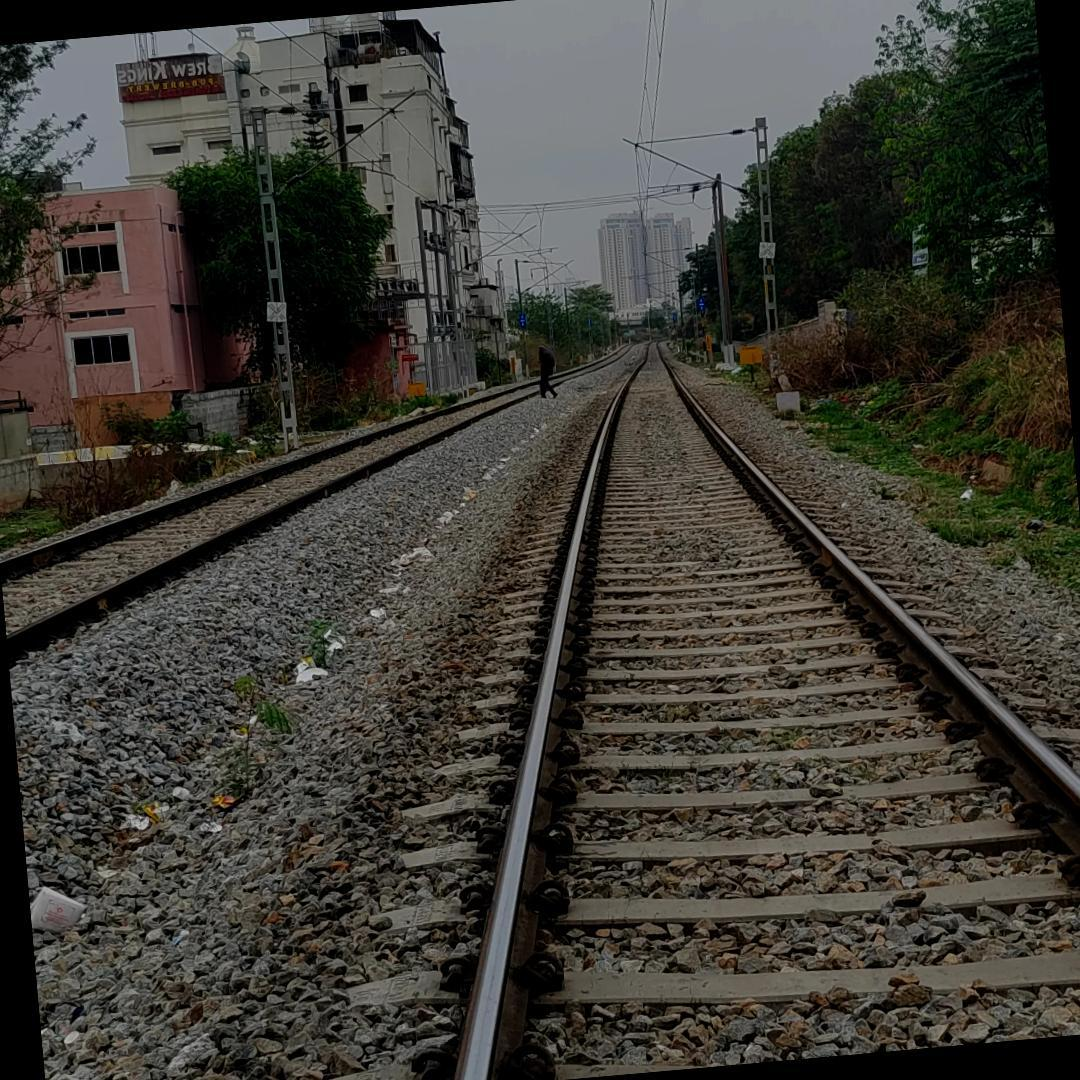standing: (535, 344, 561, 403)
track: (386, 334, 1080, 1080)
